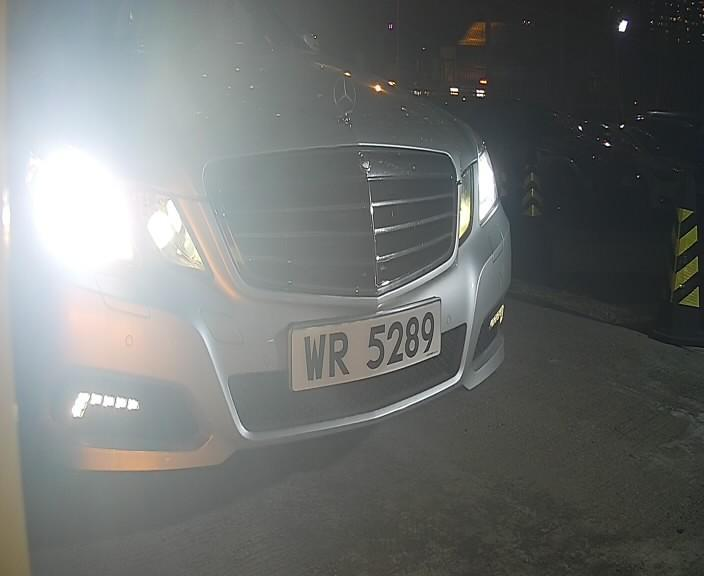privatecar: (26, 3, 516, 517)
